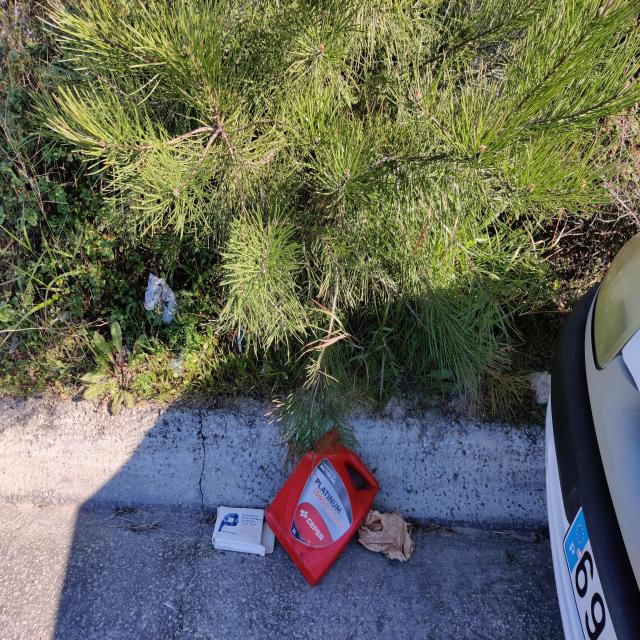litter: (263, 423, 410, 589), (209, 495, 270, 560), (141, 272, 183, 334)
